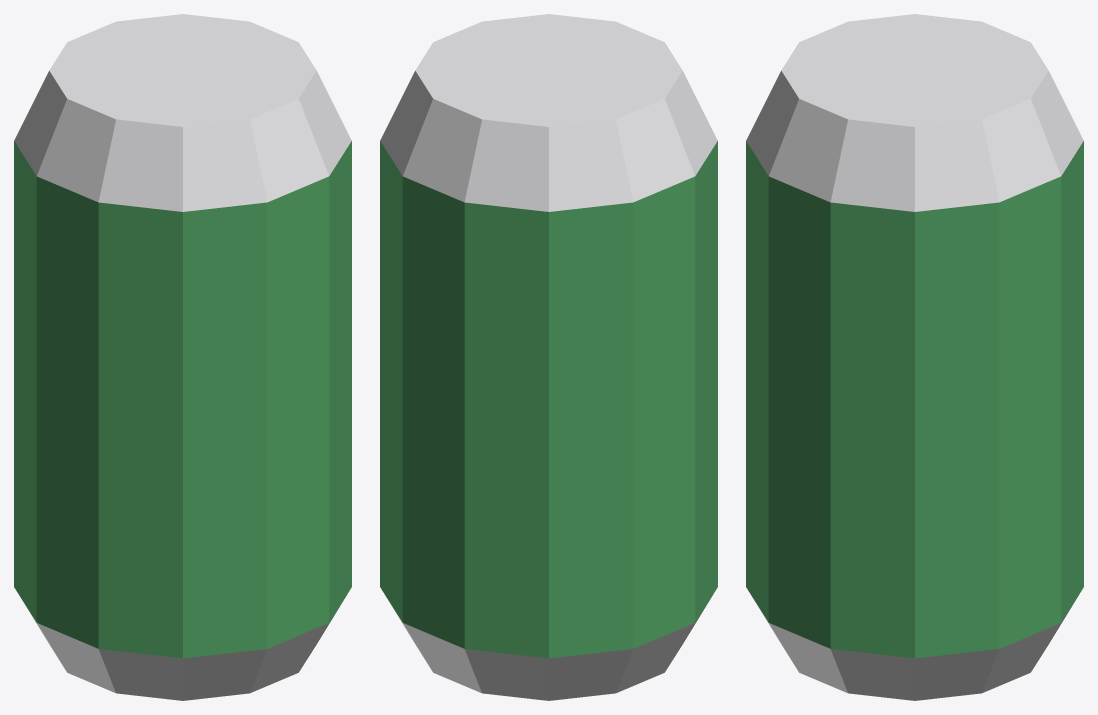
File: SM_Can_Passenger.fbx
The picture shows the model from 3 angles, left to right: view 1: azimuth 30°, elevation 25°; view 2: azimuth 150°, elevation 25°; view 3: azimuth 270°, elevation 25°; orthographic projection.
Parts seen in each view (by area): view 1: SM_Can_Passenger; view 2: SM_Can_Passenger; view 3: SM_Can_Passenger.
Boxes of the visible parts, x1,y1,x2,y2 form: SM_Can_Passenger: [14, 14, 351, 700]; SM_Can_Passenger: [380, 14, 717, 700]; SM_Can_Passenger: [746, 14, 1083, 700].
Size of the model in its own units: 4.8 by 9 by 4.8.
